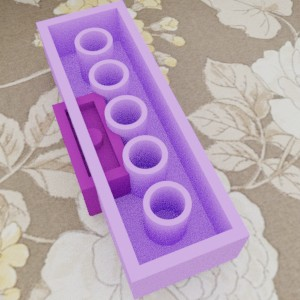lego: (35, 0, 250, 300), (51, 90, 137, 216)
